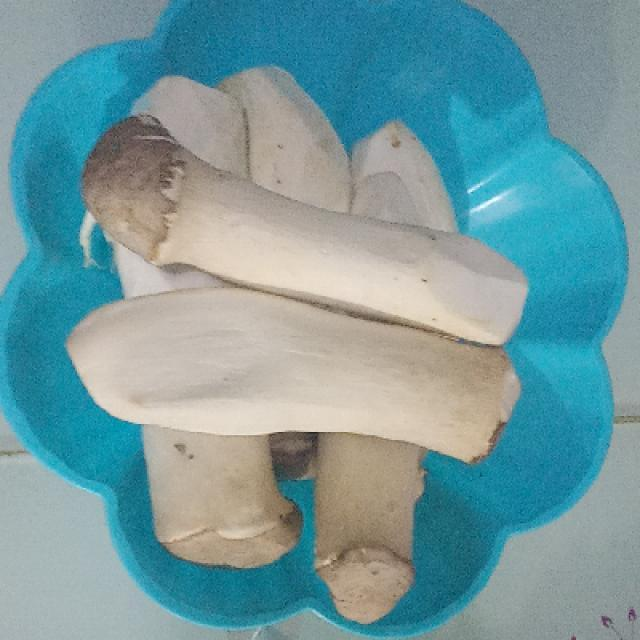Pleurotus eryngii: (89, 116, 527, 342), (73, 288, 519, 464)
